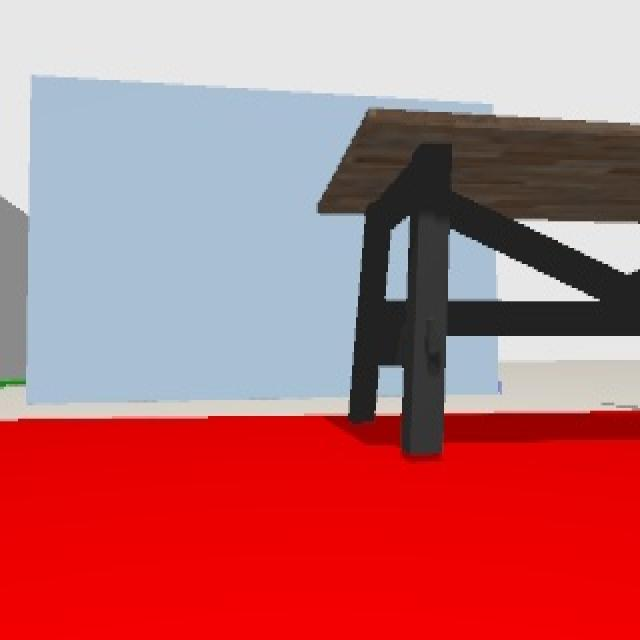dining: (318, 110, 640, 453)
